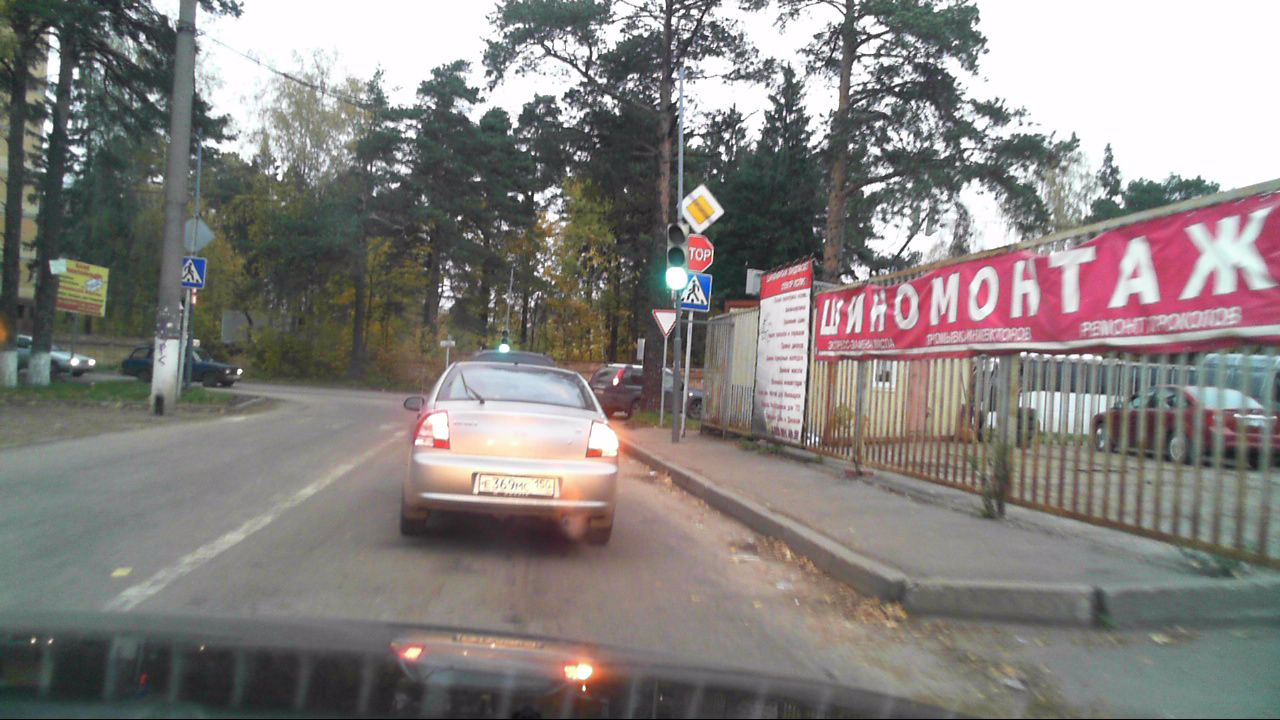main road: (678, 185, 722, 234)
